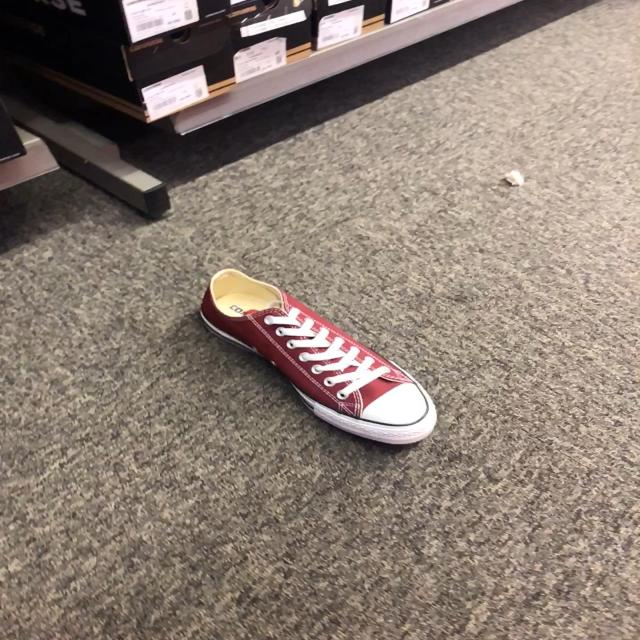shoe: (199, 270, 438, 449)
